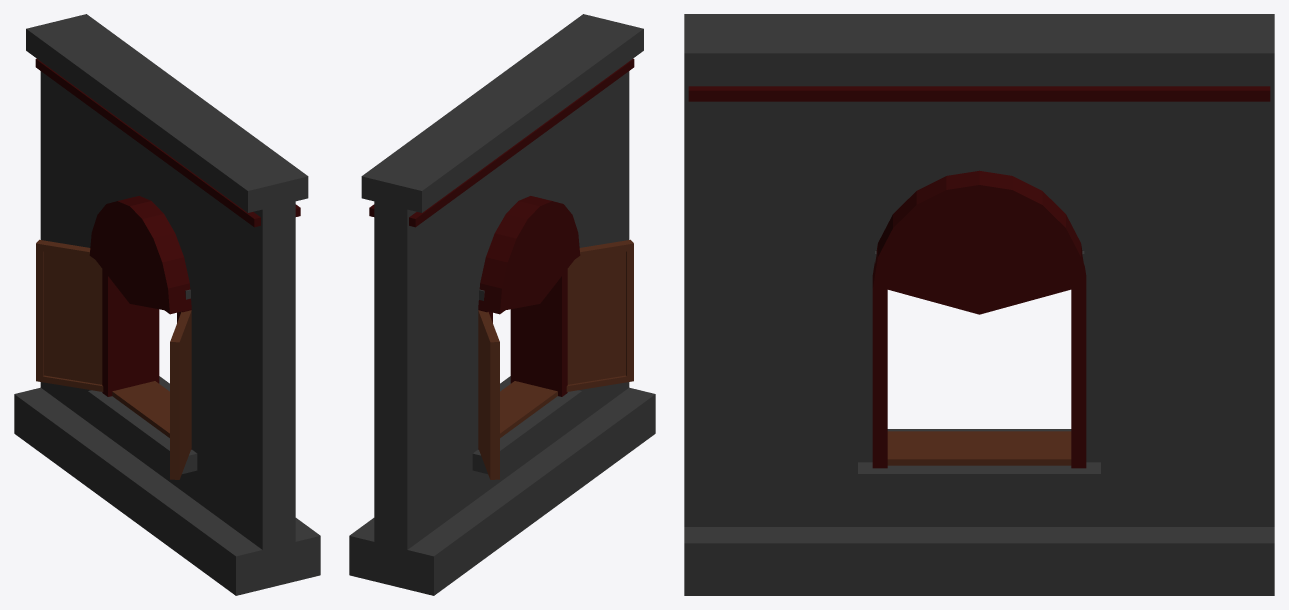
The model's file is Housewall_openwindow_Kikl02.fbx.
3 renders of one model, left to right at view 1: azimuth 30°, elevation 25°; view 2: azimuth 150°, elevation 25°; view 3: azimuth 270°, elevation 25°, orthographic. The views are drawn at different scales.
Parts seen in each view (by area): view 1: Cube, Cube.002, Cube.017, Cube.001, Cube.004, Cube.013; view 2: Cube, Cube.002, Cube.017, Cube.001, Cube.004, Cube.013; view 3: Cube, Cube.002, Cube.004, Cube.001, Cube.013.
Boxes of the visible parts, x1,y1,x2,y2 form: Cube: (14,14,320,595); Cube.002: (89,196,191,449); Cube.017: (36,239,191,479); Cube.001: (88,376,197,473); Cube.004: (35,58,300,227); Cube.013: (112,381,169,437); Cube: (349,14,655,595); Cube.002: (478,196,580,449); Cube.017: (478,239,633,479); Cube.001: (472,376,581,473); Cube.004: (369,58,634,227); Cube.013: (500,381,557,437); Cube: (684,14,1274,595); Cube.002: (872,170,1086,468); Cube.004: (688,86,1270,101); Cube.001: (858,429,1100,496); Cube.013: (887,431,1071,465).
Size of the model in its own units: 309 by 1112 by 1112.
